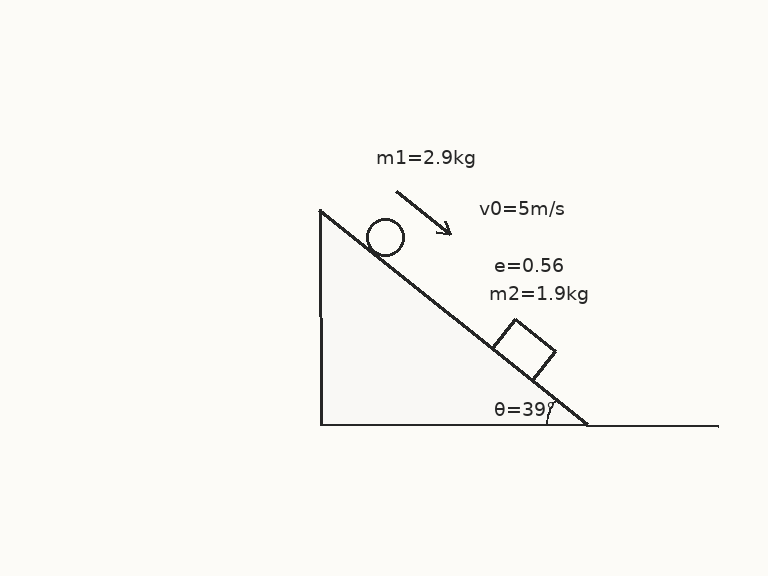ball: (364, 216, 406, 258)
block: (490, 317, 557, 382)
ramp: (318, 207, 589, 427)
